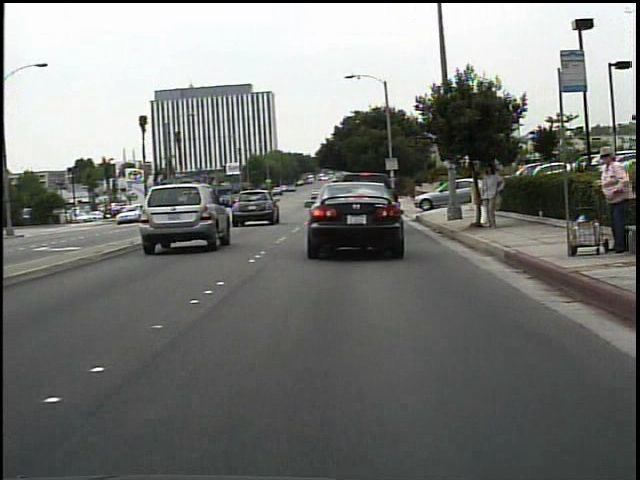person: (589, 143, 633, 260), (478, 158, 508, 231)
